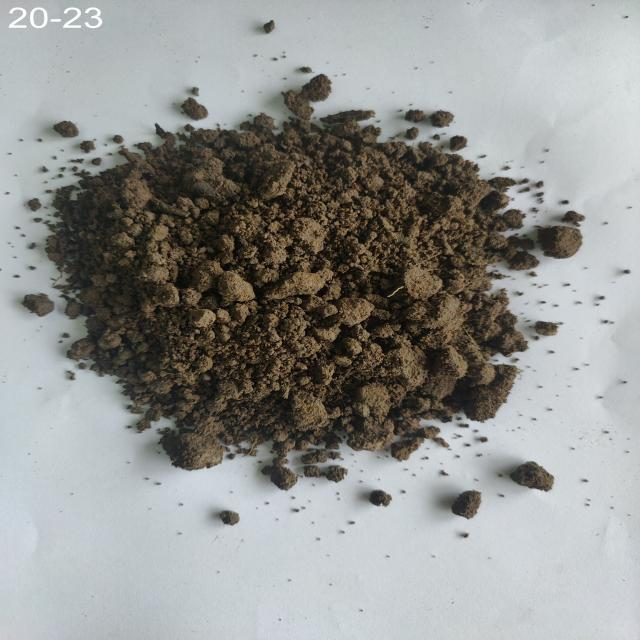soil: (114, 160, 478, 398)
